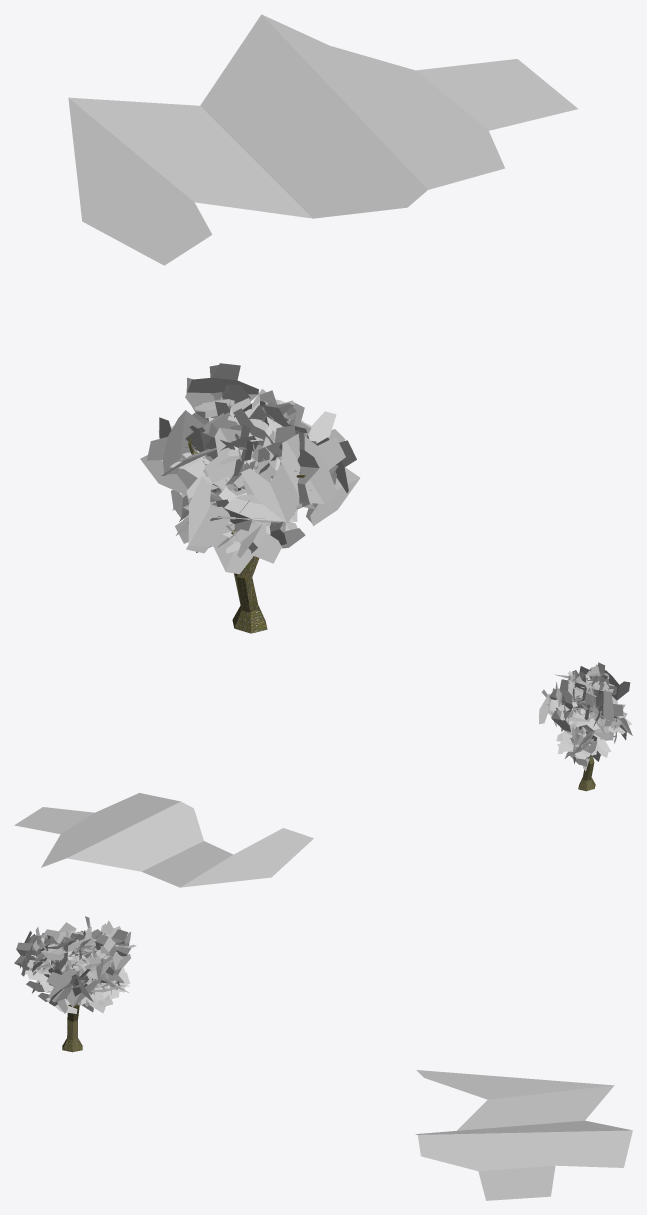
Rendered from tree.fbx.
The picture shows the model from 3 angles, top to bottom: view 1: azimuth 30°, elevation 25°; view 2: azimuth 150°, elevation 25°; view 3: azimuth 270°, elevation 25°; orthographic projection. The views are drawn at different scales.
Visible parts, largest first — view 1: Tree Branch, Cube|Tree Branch|Dupli|55, Cube|Tree Branch|Dupli|141, Cube|Tree Branch|Dupli|68, Cube, Cube|Tree Branch|Dupli|167, Cube|Tree Branch|Dupli|74, Cube|Tree Branch|Dupli|153, Cube|Tree Branch|Dupli|188, Cube|Tree Branch|Dupli|90; view 2: Tree Branch, Cube|Tree Branch|Dupli|68, Cube|Tree Branch|Dupli|167, Cube|Tree Branch|Dupli|123, Cube, Cube|Tree Branch|Dupli|55; view 3: Tree Branch, Cube|Tree Branch|Dupli|87, Cube, Cube|Tree Branch|Dupli|167, Cube|Tree Branch|Dupli|31, Cube|Tree Branch|Dupli|99.
Boxes of the visible parts, bbox=[...] form: Tree Branch: bbox=[68, 14, 577, 265]; Cube|Tree Branch|Dupli|55: bbox=[241, 433, 345, 523]; Cube|Tree Branch|Dupli|141: bbox=[188, 477, 282, 574]; Cube|Tree Branch|Dupli|68: bbox=[147, 410, 224, 474]; Cube: bbox=[188, 438, 305, 633]; Cube|Tree Branch|Dupli|167: bbox=[185, 363, 258, 420]; Cube|Tree Branch|Dupli|74: bbox=[140, 412, 238, 497]; Cube|Tree Branch|Dupli|153: bbox=[204, 418, 252, 487]; Cube|Tree Branch|Dupli|188: bbox=[227, 399, 336, 443]; Cube|Tree Branch|Dupli|90: bbox=[302, 420, 359, 526]; Tree Branch: bbox=[14, 793, 313, 887]; Cube|Tree Branch|Dupli|68: bbox=[584, 691, 623, 725]; Cube|Tree Branch|Dupli|167: bbox=[549, 679, 572, 731]; Cube|Tree Branch|Dupli|123: bbox=[557, 733, 611, 758]; Cube: bbox=[562, 704, 595, 791]; Cube|Tree Branch|Dupli|55: bbox=[579, 666, 630, 700]; Tree Branch: bbox=[415, 1070, 632, 1200]; Cube|Tree Branch|Dupli|87: bbox=[46, 968, 99, 1007]; Cube: bbox=[62, 998, 82, 1052]; Cube|Tree Branch|Dupli|167: bbox=[104, 920, 130, 970]; Cube|Tree Branch|Dupli|31: bbox=[95, 929, 131, 975]; Cube|Tree Branch|Dupli|99: bbox=[27, 922, 76, 974].
Bounding box in the file's own units: 4919 × 1395 × 6078.
